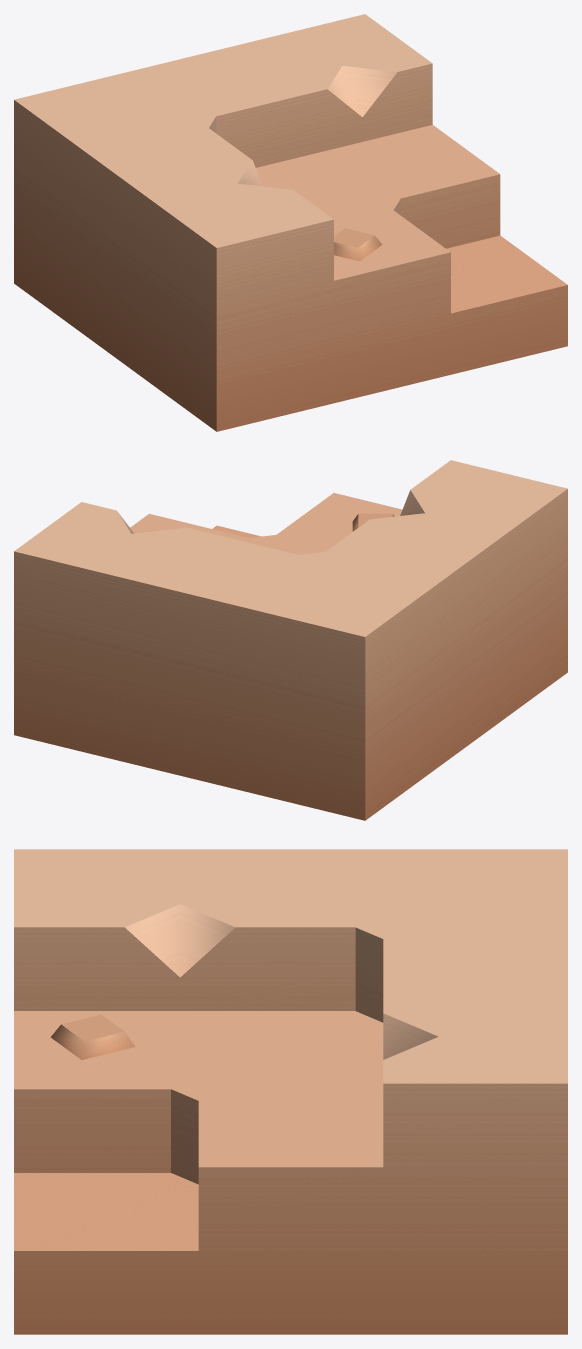
The picture shows the model from 3 angles, top to bottom: view 1: azimuth 30°, elevation 25°; view 2: azimuth 150°, elevation 25°; view 3: azimuth 270°, elevation 25°; orthographic projection. The views are drawn at different scales.
Visible parts, largest first — view 1: stairs-corner-inner; view 2: stairs-corner-inner; view 3: stairs-corner-inner.
Part boxes in pixels (x1,y1,x2,y2): stairs-corner-inner: (14, 14, 567, 431); stairs-corner-inner: (14, 460, 567, 820); stairs-corner-inner: (14, 849, 567, 1334).
Size of the model in its own units: 1 by 0.5 by 1.
1 material, 1 textured.
